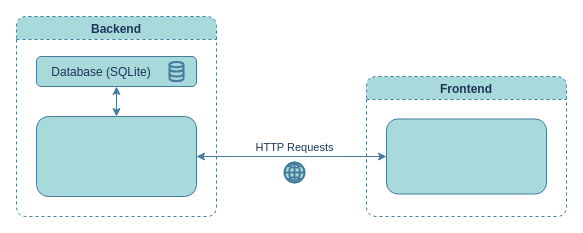
The diagram is 583 pixels wide and 233 high, and some of its shapes have lost their labels. The centre of each missing label's shape, as x and y in pixels:
"REST API Server (Python + FastAPI)" belongs at (116,156).
"Website (Svelte, HTML, CSS, JS)" belongs at (466,156).
